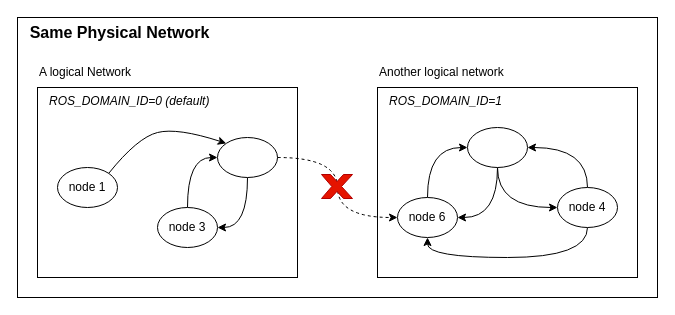
The diagram is 675 pixels wide and 315 high, and some of its shapes have lost their labels. The shapes that lost their labels are listed below. From the top down, each one's centre as x and y in pixels, then its label:
At (247,157): "node 2".
At (497,147): "node 5".
